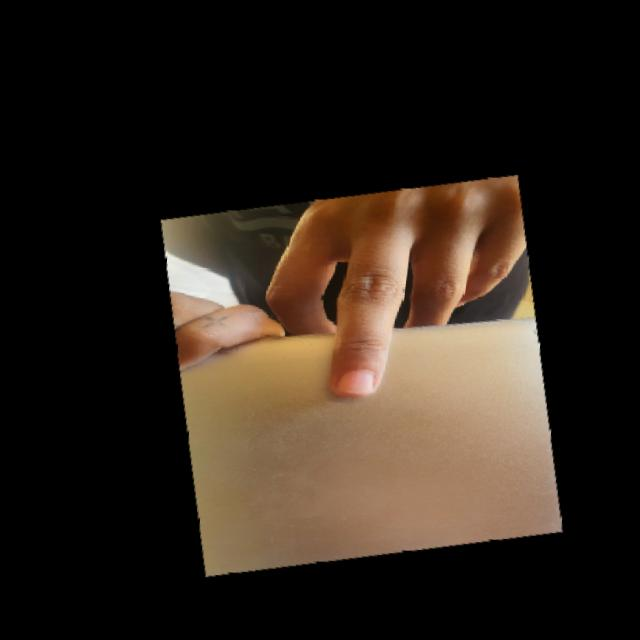Nail: (339, 369, 372, 392)
